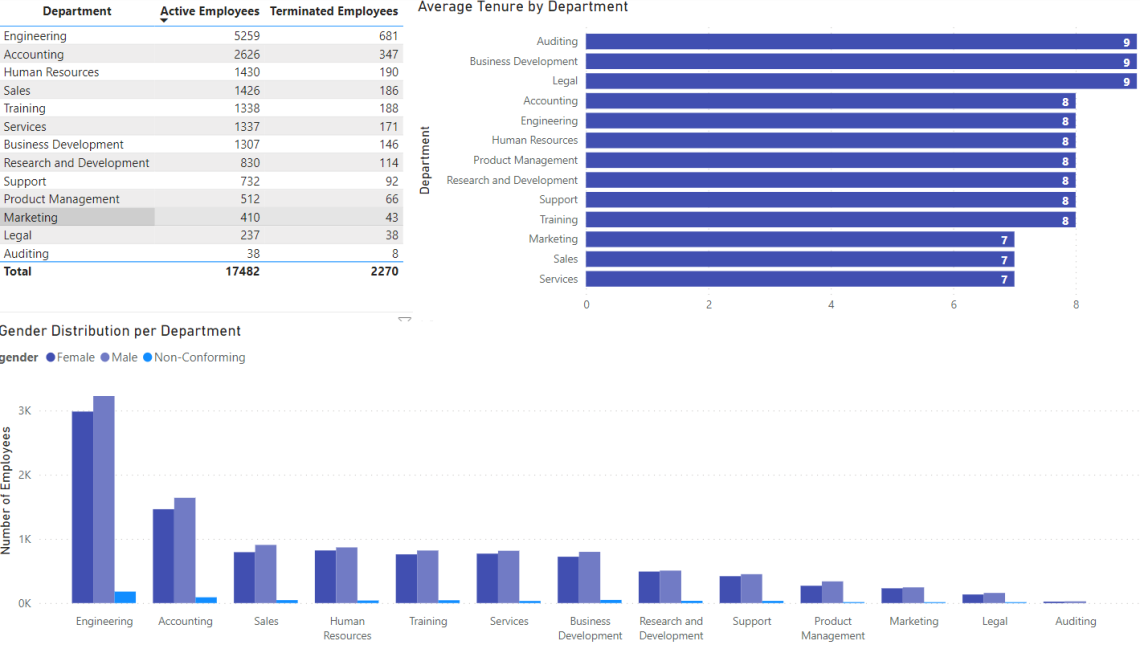

What the dashboard file says about the page in this screenshot:
{"tool":"powerbi","page":{"name":"Page 2","canvas":[1280,720],"ordinal":1},"visuals":[{"type":"tableEx","fields":{"Values":["Turnover rate.department","Sum(Turnover rate.active_count)","Sum(Turnover rate.terminated_count)"]},"box":[9.6,0,515.5,348.2],"z":0},{"type":"clusteredColumnChart","title":"Gender Distribution per Department","fields":{"Category":["gender department.department"],"Y":["Sum(gender department.count)"],"Series":["gender department.gender"]},"box":[9.6,357.8,1271,362],"z":1},{"type":"barChart","title":"Average Tenure by Department","fields":{"Category":["Tenure Distribution.department"],"Y":["Sum(Tenure Distribution.avg_tenure)"]},"box":[473,0,807.5,357.8],"z":2}]}

Visuals, with their boxes in screenshot pixels (x1, y1, x2, y2), scaled from the page's 1280x720 canvas onto the 1140x645 screenshot:
tableEx - Turnover rate.department x Sum(Turnover rate.active_count): locate(9, 0, 468, 312)
"Gender Distribution per Department" clusteredColumnChart: locate(9, 321, 1139, 644)
"Average Tenure by Department" barChart: locate(421, 0, 1139, 321)
